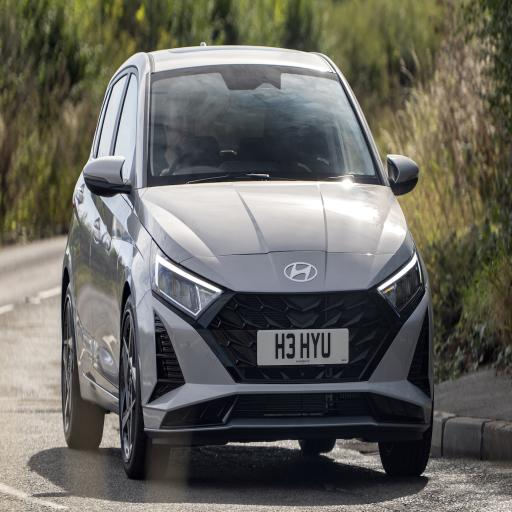License: (255, 326, 356, 368)
